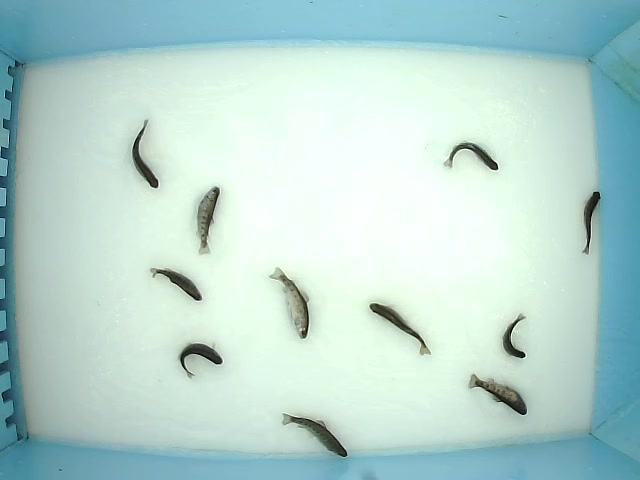fish: (369, 302, 431, 357), (280, 410, 348, 459), (267, 266, 310, 340), (466, 373, 527, 417), (130, 118, 159, 190), (149, 267, 203, 303), (177, 340, 224, 381), (194, 186, 221, 256), (442, 139, 499, 172), (581, 191, 602, 257), (502, 312, 527, 359)
